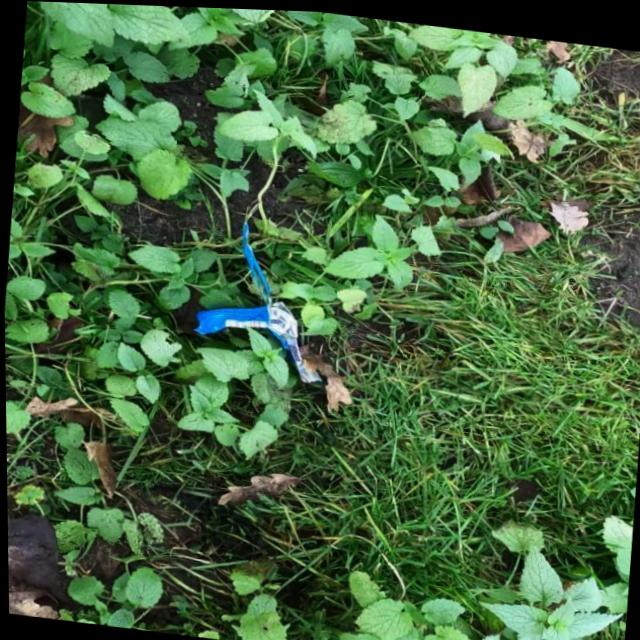Plastic: (312, 264, 456, 444)
